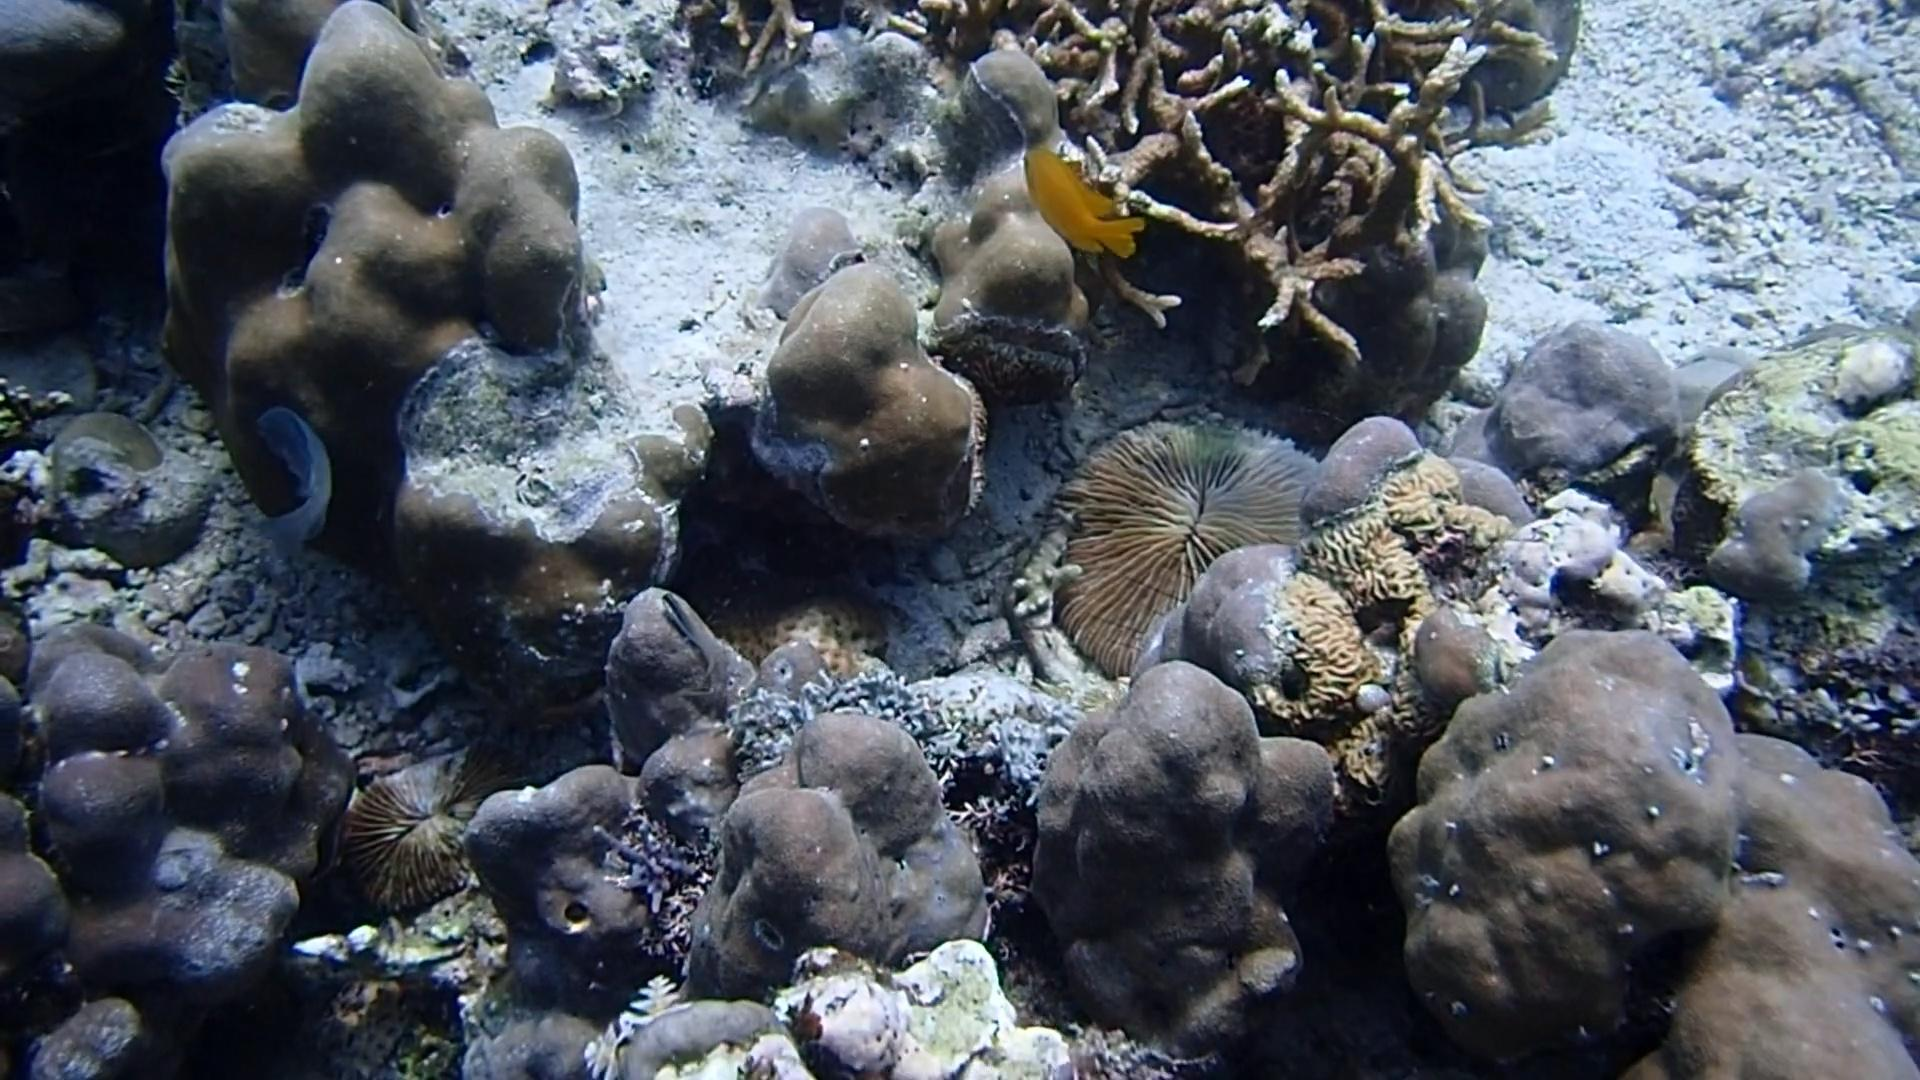Blue Fish Two: (241, 400, 347, 572)
Yellow Fish: (1011, 142, 1153, 268)
